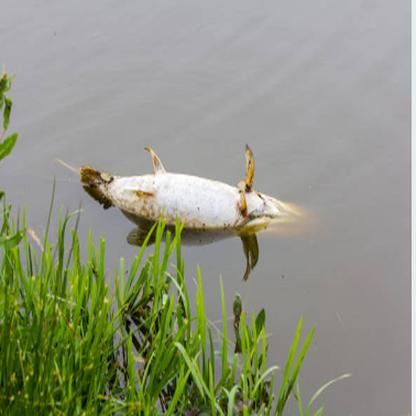deceased fish: (74, 148, 315, 243)
